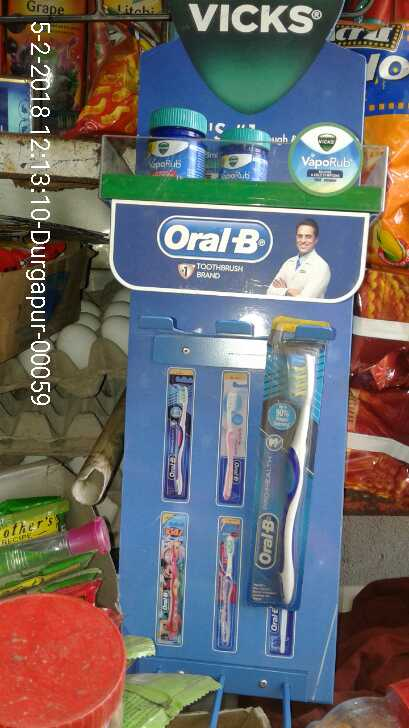pharmacy: (265, 346, 313, 615), (131, 101, 207, 189), (216, 118, 268, 189)
